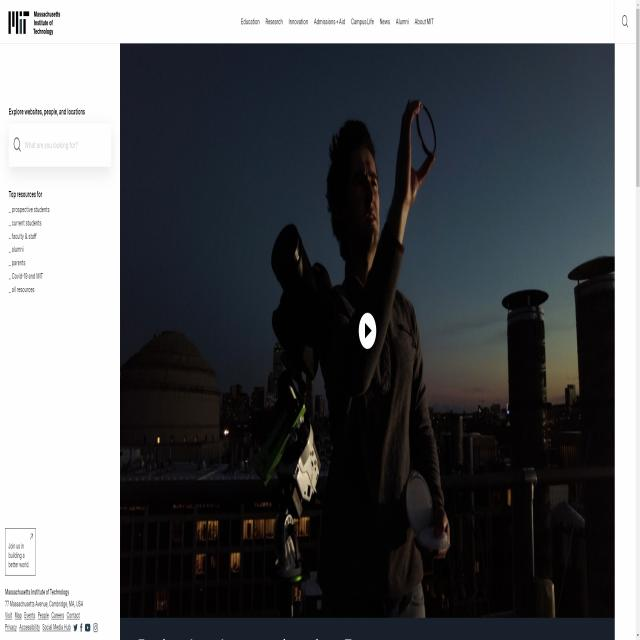search: (8, 125, 112, 168), (614, 3, 634, 38)
tab-bar: (236, 10, 437, 32)
